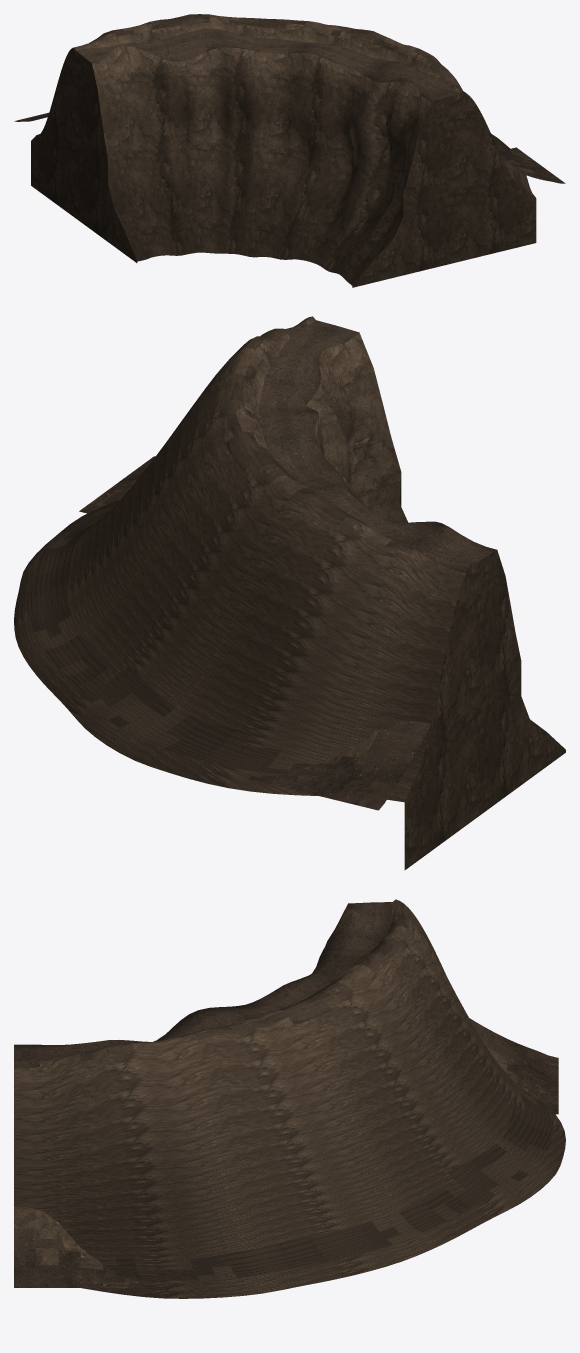
Rendered from seacliff_inner_h3_v5_dead.glb.
The picture shows the model from 3 angles, top to bottom: view 1: azimuth 30°, elevation 25°; view 2: azimuth 150°, elevation 25°; view 3: azimuth 270°, elevation 25°; orthographic projection. The views are drawn at different scales.
Parts seen in each view (by area): view 1: seacliff_inner_h3; view 2: seacliff_inner_h3; view 3: seacliff_inner_h3.
Part boxes in pixels (left/top/right/bottom): seacliff_inner_h3: left=14, top=14, right=565, bottom=287; seacliff_inner_h3: left=14, top=316, right=565, bottom=870; seacliff_inner_h3: left=14, top=899, right=565, bottom=1298.
Bounding box in the file's own units: 9.83 × 4.92 × 9.91.
Materials: 2 (2 with a texture image).
